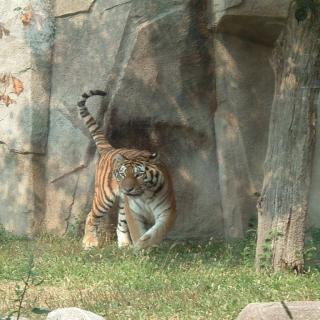Tiger: (76, 89, 178, 248)
